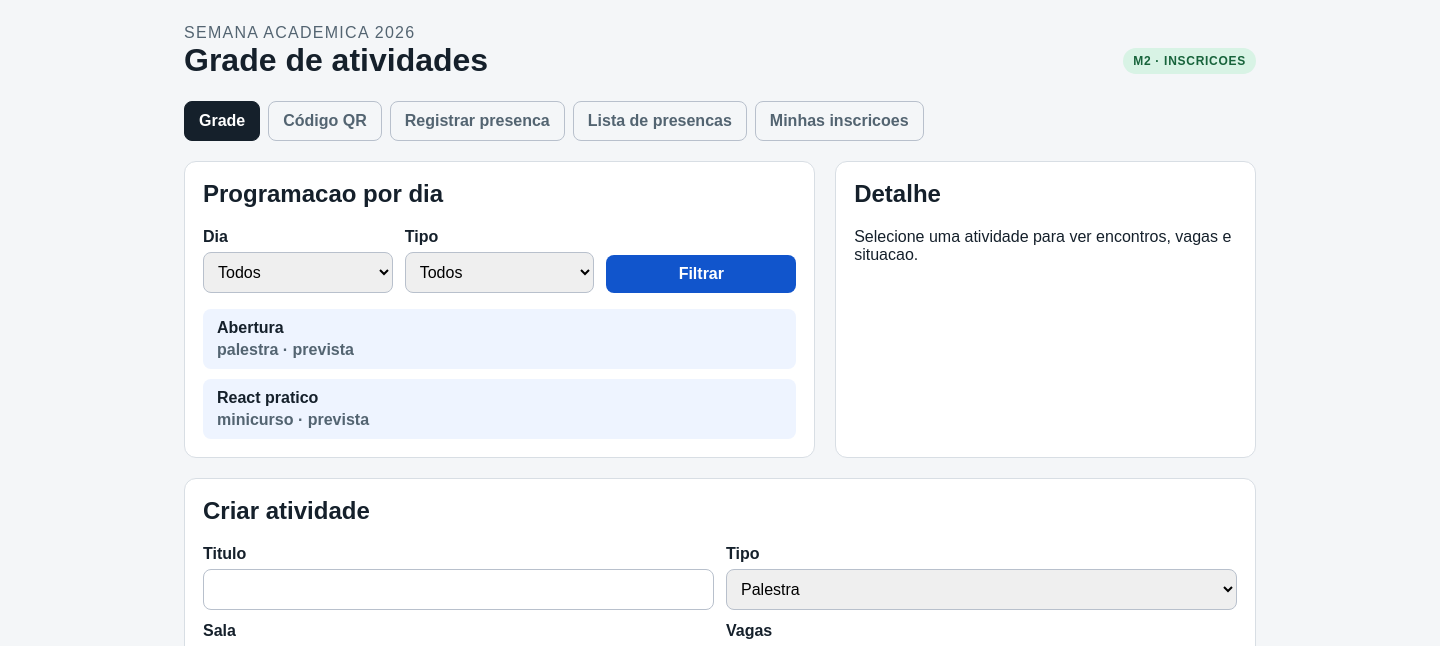
Test: App M1 › lista a programacao e aplica filtro por tipo sem usar API real
Expected: the button "Abertura palestra · prevista" is shown, [203, 309, 796, 369]
Expected: the button "React pratico minicurso · prevista" is shown, [203, 379, 796, 439]
Select "Minicurso" in the dropdown labelled "Tipo" below "Programacao por dia" at coordinates (500, 272), box [405, 252, 594, 293]
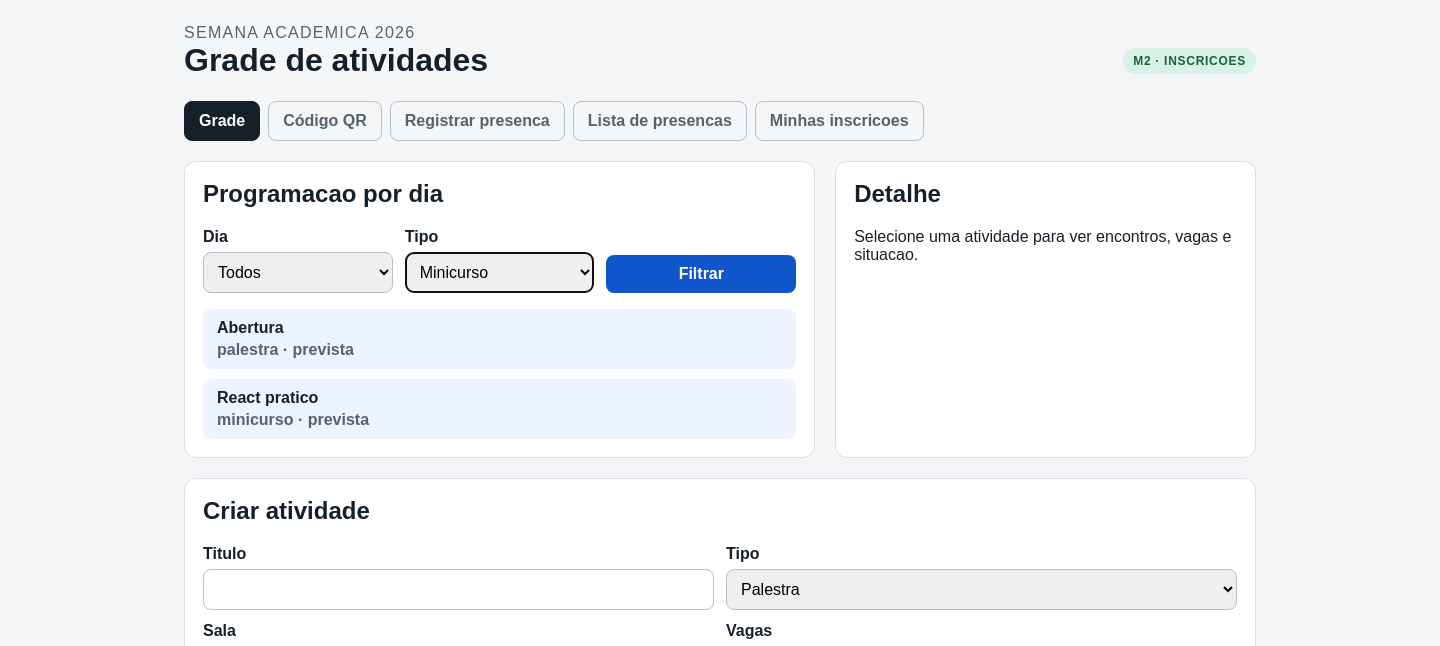
Click the button "Filtrar" at coordinates (701, 274), box [606, 255, 796, 293]
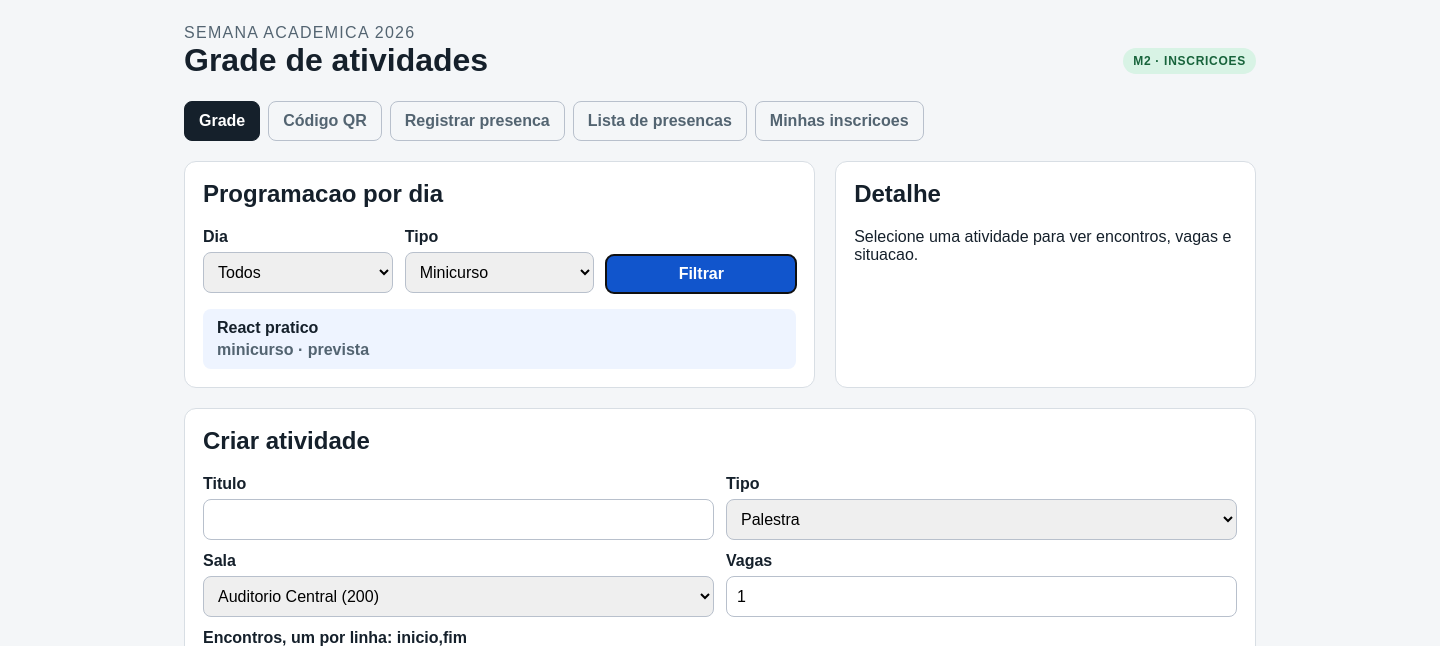
Expected: the button "React pratico minicurso · prevista" is shown, [203, 309, 796, 369]
Result: the button "Abertura" is gone
